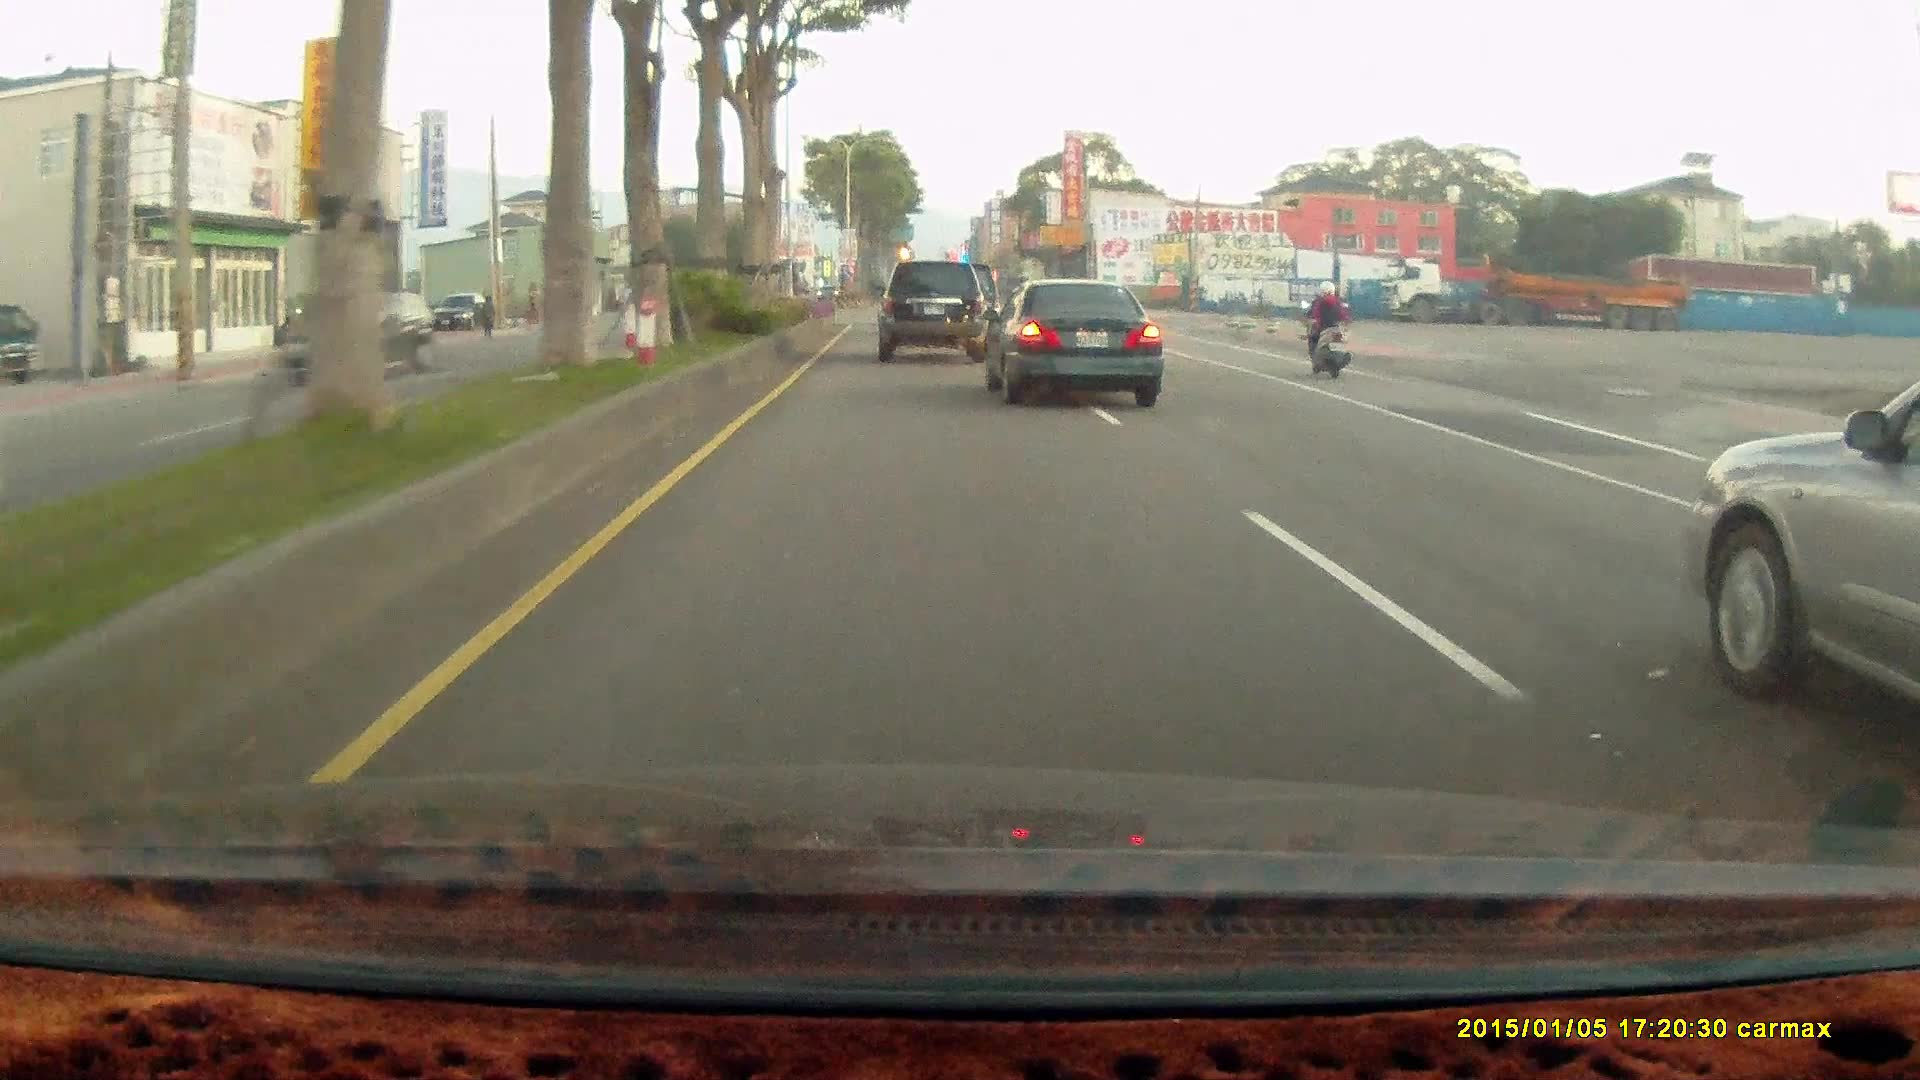rider: (1290, 273, 1363, 388), (1297, 282, 1350, 379)
vehicle: (1684, 378, 1920, 724), (979, 276, 1162, 405), (1376, 259, 1687, 333), (991, 277, 1167, 404), (287, 290, 436, 383), (879, 262, 1000, 365), (875, 260, 988, 362), (1, 305, 49, 385), (1, 305, 46, 384), (427, 292, 490, 332)
